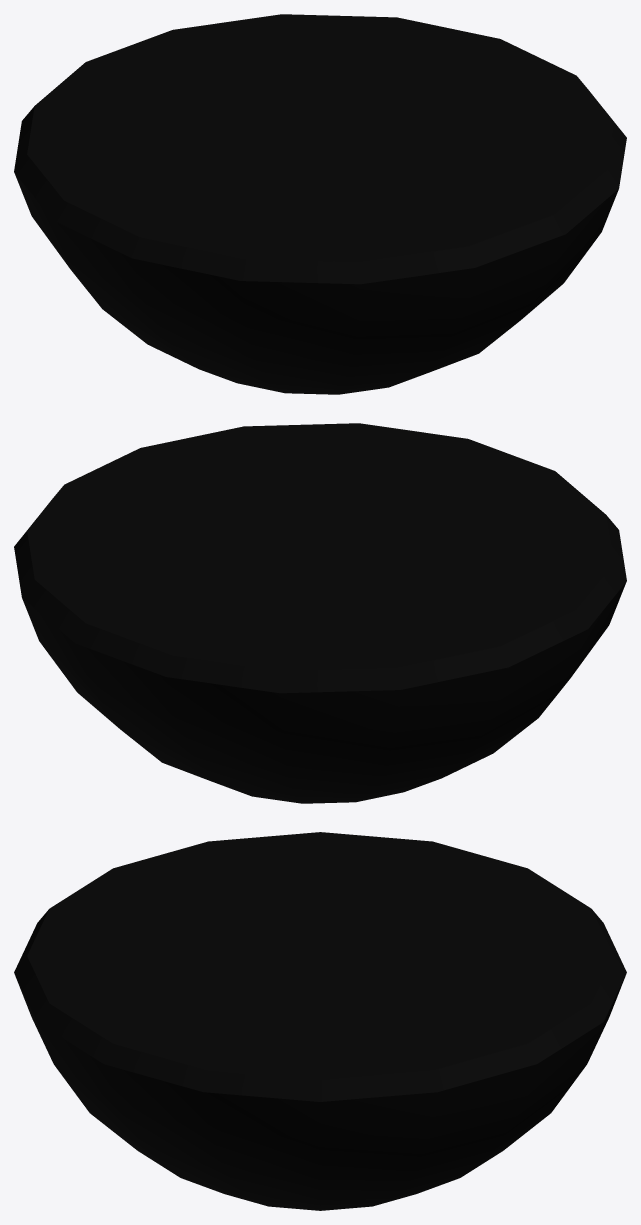
Rendered from Leg_02.fbx.
The picture shows the model from 3 angles, top to bottom: view 1: azimuth 30°, elevation 25°; view 2: azimuth 150°, elevation 25°; view 3: azimuth 270°, elevation 25°; orthographic projection.
Visible parts, largest first — view 1: Leg_02; view 2: Leg_02; view 3: Leg_02.
Boxes of the visible parts, bbox=[...] form: Leg_02: bbox=[14, 14, 626, 394]; Leg_02: bbox=[14, 423, 626, 803]; Leg_02: bbox=[14, 832, 626, 1210].
Bounding box in the file's own units: 95.42 × 38.87 × 95.42.
